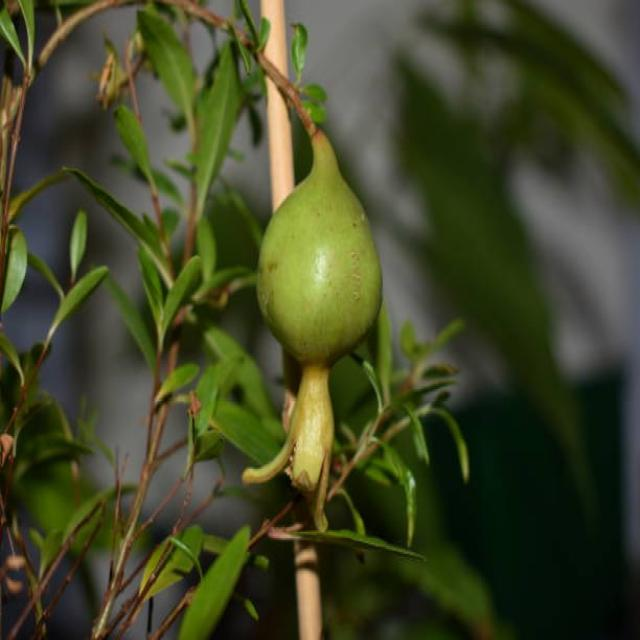Unripe: (242, 136, 385, 540)
